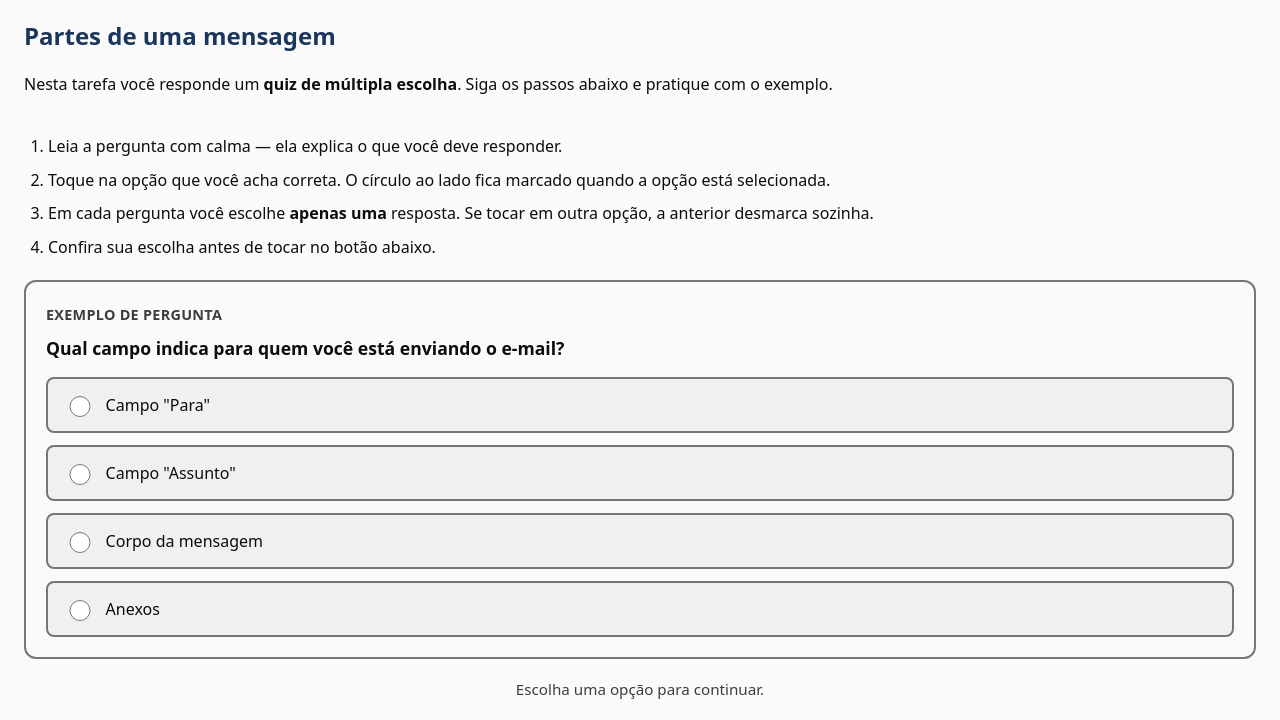
Test: StepTutorialPage › pergunta continuar a atividade no modal quando a atividade já foi iniciada
The width and height of the screenshot is (1280, 720).
Click the radio button labelled "Campo \"Para\"".
click(80, 407)  # box [69,396,91,417]
(page scrolled)
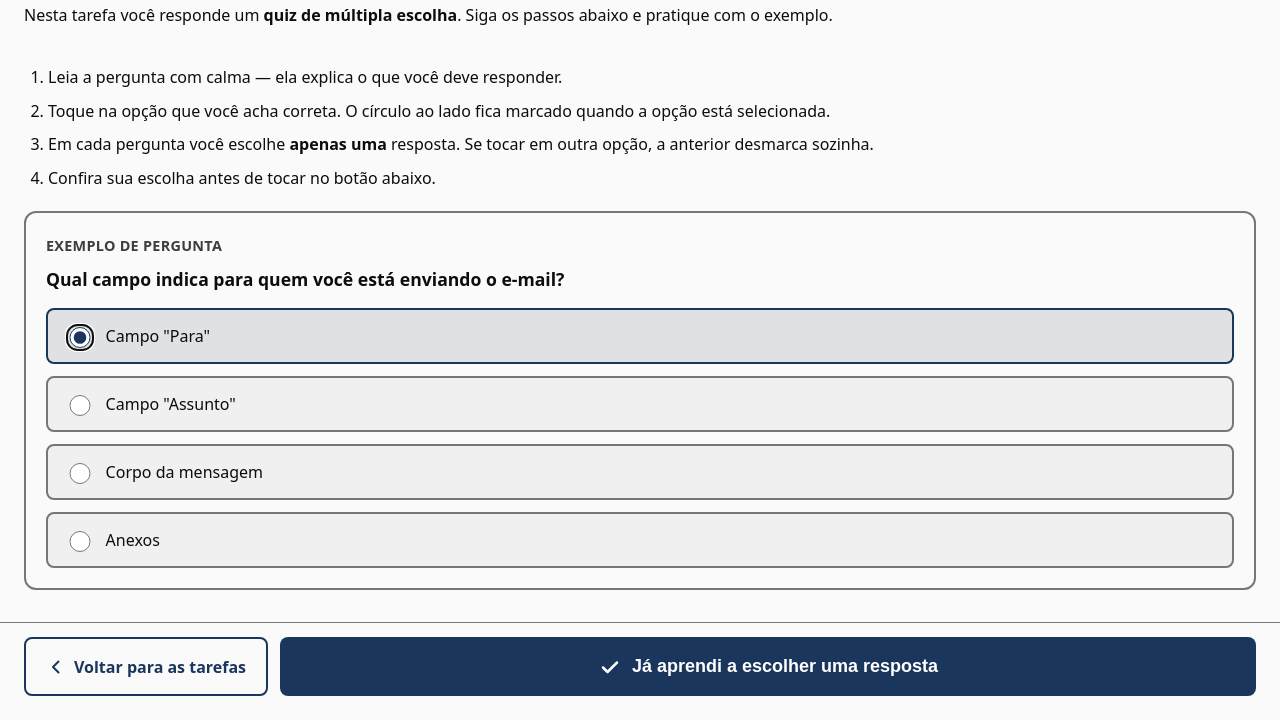
Click the button with aria-label "confirmar que já aprendeu a escolher uma resposta".
click(768, 667)  # box [280,637,1256,696]
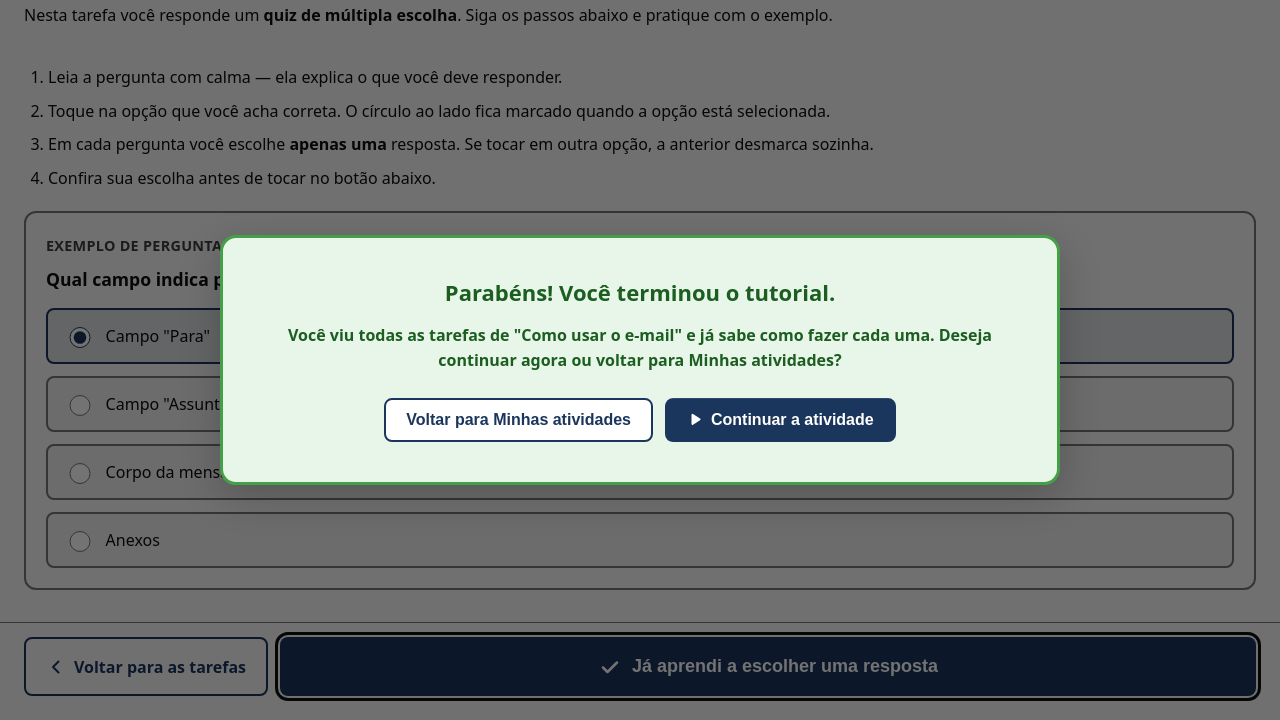
Check: the dialog "Parabéns! Você terminou o tutorial" is shown, box [220,235,1060,485]
Check: the text "deseja continuar agora ou voltar para minhas atividades" is shown, box [288,324,992,371]
Check: the button with aria-label "continuar a atividade: como usar o e-mail" is shown, box [665,398,896,442]
